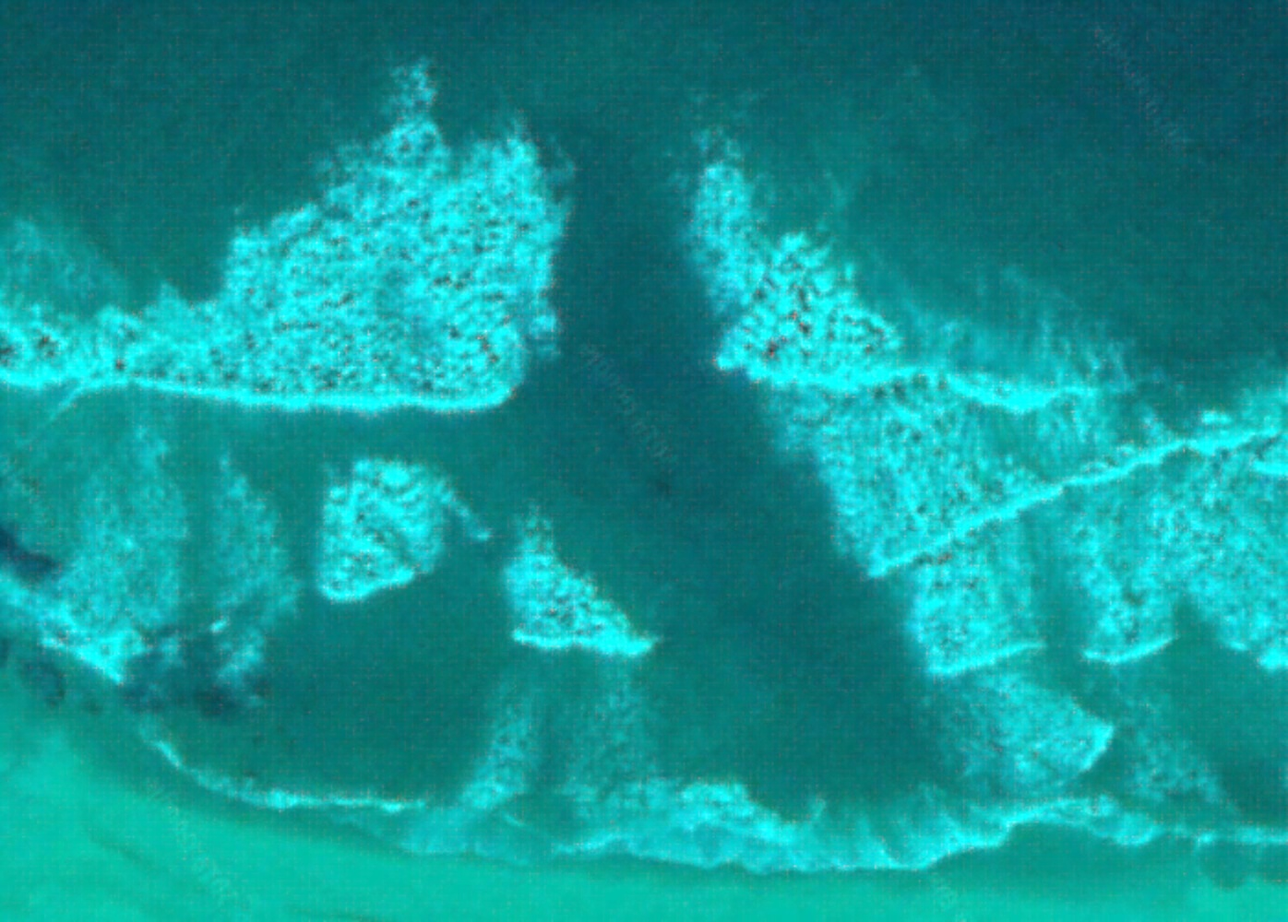rip_current: (432, 186, 991, 792)
